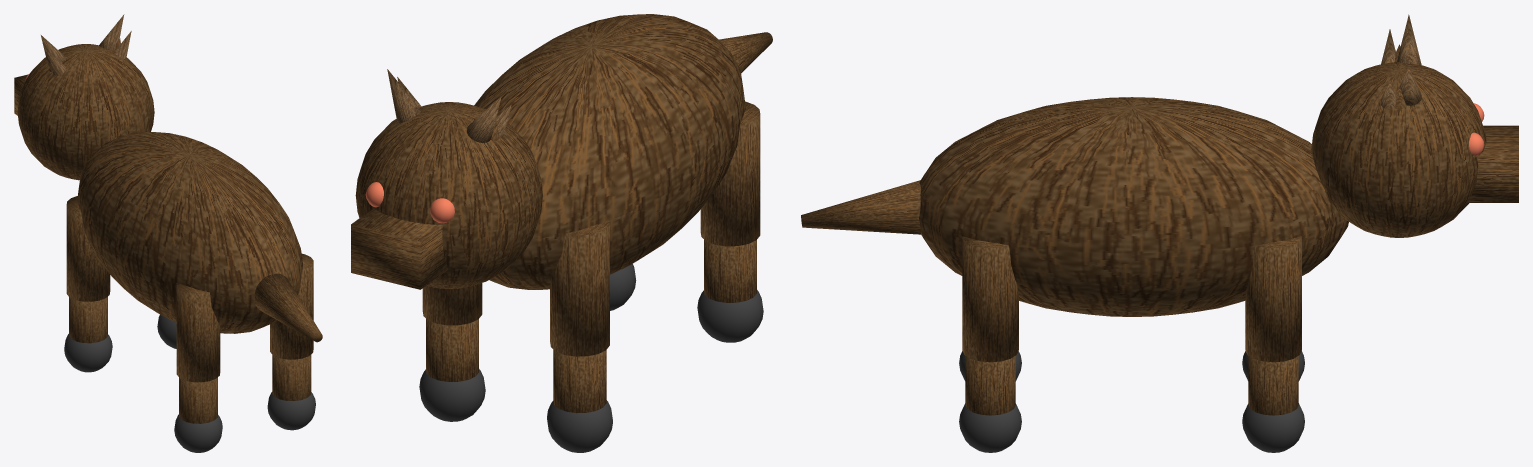
The model's file is deep-stag.glb.
The picture shows the model from 3 angles, left to right: view 1: azimuth 30°, elevation 25°; view 2: azimuth 150°, elevation 25°; view 3: azimuth 270°, elevation 25°; orthographic projection. The views are drawn at different scales.
Visible parts, largest first — view 1: Body, Head, LegUpper, LegUpper.001, Tail, LegUpper.002, LegLower.002, LegLower.001, LegLower, Paw, Paw.001, Paw.002 (+2 smaller); view 2: Body, Head, LegUpper.001, Snout, LegUpper, LegLower.001, LegLower, LegLower.003, Paw.003, Paw, Paw.001, LegUpper.003 (+5 smaller); view 3: Body, Head, LegUpper.002, LegUpper.003, Tail, Snout, LegLower.002, LegLower.003, Paw.002, Paw.003.
Boxes of the visible parts, bbox=[...] form: Body: bbox=[77, 131, 302, 333]; Head: bbox=[17, 44, 154, 180]; LegUpper: bbox=[176, 283, 220, 382]; LegUpper.001: bbox=[66, 196, 110, 301]; Tail: bbox=[254, 273, 322, 342]; LegUpper.002: bbox=[270, 253, 313, 359]; LegLower.002: bbox=[272, 355, 311, 400]; LegLower.001: bbox=[69, 297, 107, 343]; LegLower: bbox=[179, 377, 217, 423]; Paw: bbox=[174, 414, 222, 452]; Paw.001: bbox=[64, 334, 112, 372]; Paw.002: bbox=[267, 392, 315, 430]; Body: bbox=[474, 14, 745, 289]; Head: bbox=[355, 102, 542, 288]; LegUpper.001: bbox=[550, 220, 609, 356]; Snout: bbox=[351, 208, 447, 289]; LegUpper: bbox=[700, 101, 760, 246]; LegLower.001: bbox=[553, 349, 606, 413]; LegLower: bbox=[704, 239, 756, 302]; LegLower.003: bbox=[426, 318, 478, 381]; Paw.003: bbox=[419, 369, 485, 421]; Paw: bbox=[697, 290, 763, 342]; Paw.001: bbox=[547, 400, 612, 452]; LegUpper.003: bbox=[422, 283, 482, 325]; Body: bbox=[919, 97, 1348, 316]; Head: bbox=[1311, 62, 1486, 237]; LegUpper.002: bbox=[962, 236, 1018, 362]; LegUpper.003: bbox=[1245, 236, 1301, 362]; Tail: bbox=[801, 180, 920, 234]; Snout: bbox=[1467, 125, 1518, 202]; LegLower.002: bbox=[965, 356, 1015, 415]; LegLower.003: bbox=[1248, 356, 1298, 415]; Paw.002: bbox=[959, 403, 1021, 452]; Paw.003: bbox=[1242, 403, 1304, 452].
Bounding box in the file's own units: 0.5132 × 0.9789 × 1.67.
4 materials, 2 textured.
